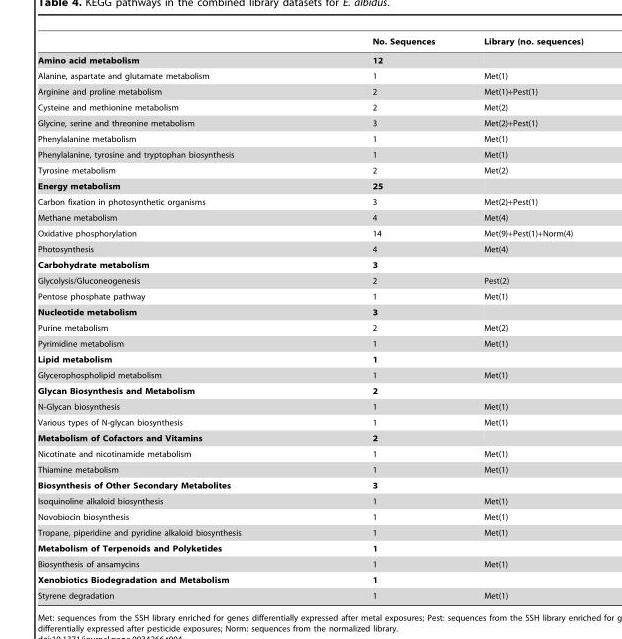table: (37, 36, 582, 599)
table column: (37, 36, 306, 599), (306, 36, 458, 599), (458, 36, 582, 599)
table column header: (37, 36, 582, 50)
table row: (37, 50, 582, 67), (37, 82, 582, 99), (37, 114, 582, 131), (37, 192, 582, 209), (37, 224, 582, 241), (37, 146, 582, 162), (37, 162, 582, 178), (37, 256, 582, 272), (37, 272, 582, 288), (37, 288, 582, 304), (37, 319, 582, 335), (37, 335, 582, 351), (37, 351, 582, 367), (37, 382, 582, 398), (37, 398, 582, 414), (37, 414, 582, 430), (37, 445, 582, 461), (37, 461, 582, 477), (37, 477, 582, 493), (37, 508, 582, 524), (37, 524, 582, 540), (37, 540, 582, 556), (37, 571, 582, 587), (37, 67, 582, 82), (37, 99, 582, 114), (37, 131, 582, 146), (37, 209, 582, 224), (37, 241, 582, 256), (37, 304, 582, 319), (37, 367, 582, 382), (37, 430, 582, 445), (37, 493, 582, 508), (37, 556, 582, 571), (37, 36, 582, 50), (37, 178, 582, 192), (37, 587, 582, 599)
